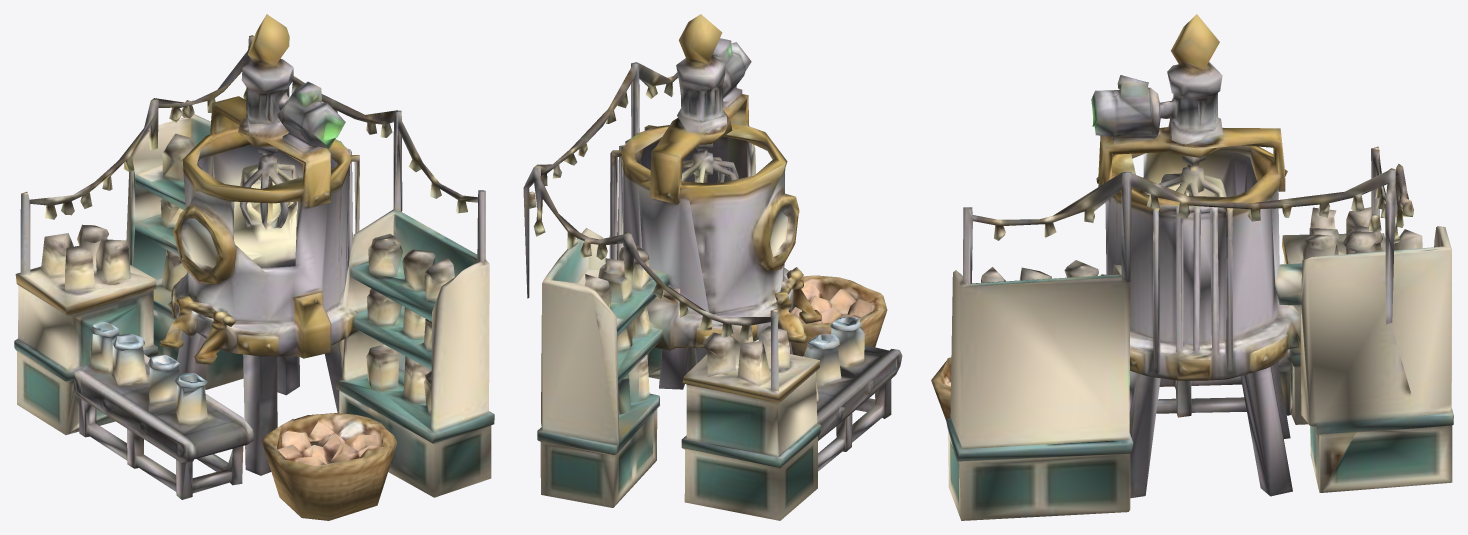
Rendered from jiaobanji-3.glb.
The picture shows the model from 3 angles, left to right: view 1: azimuth 30°, elevation 25°; view 2: azimuth 150°, elevation 25°; view 3: azimuth 270°, elevation 25°; orthographic projection. The views are drawn at different scales.
Parts seen in each view (by area): view 1: node_0; view 2: node_0; view 3: node_0.
Boxes of the visible parts, left/top/right/bottom form: node_0: left=14, top=14, right=494, bottom=520; node_0: left=523, top=14, right=902, bottom=520; node_0: left=931, top=14, right=1453, bottom=520.
Bounding box in the file's own units: 0.5637 × 0.7829 × 0.8275.
Materials: 1 (1 with a texture image).
